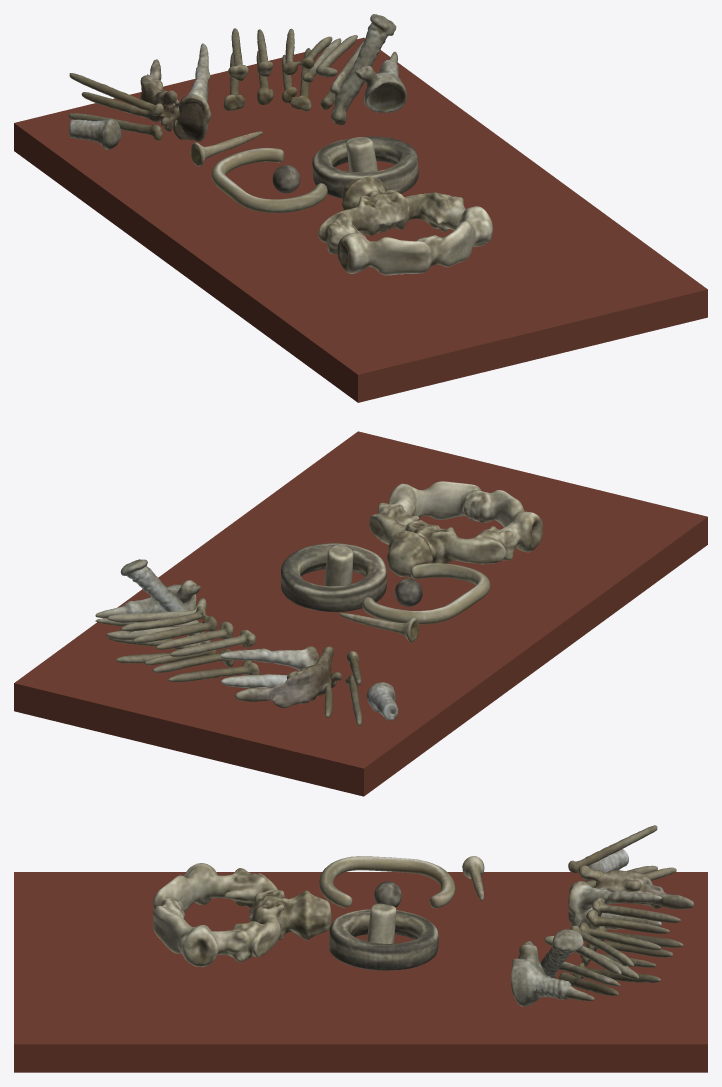
The picture shows the model from 3 angles, top to bottom: view 1: azimuth 30°, elevation 25°; view 2: azimuth 150°, elevation 25°; view 3: azimuth 270°, elevation 25°; orthographic projection.
Parts seen in each view (by area): view 1: board, trellis; view 2: board, trellis; view 3: board, trellis.
Part boxes in pixels (x1,y1,x2,y2): board: (14, 37, 707, 402); trellis: (68, 14, 492, 275); board: (14, 431, 707, 796); trellis: (95, 481, 542, 726); board: (14, 872, 707, 1072); trellis: (152, 825, 693, 1006).
Bounding box in the file's own units: 0.1937 × 0.0601 × 0.33.
Materials: 2 (1 with a texture image).
